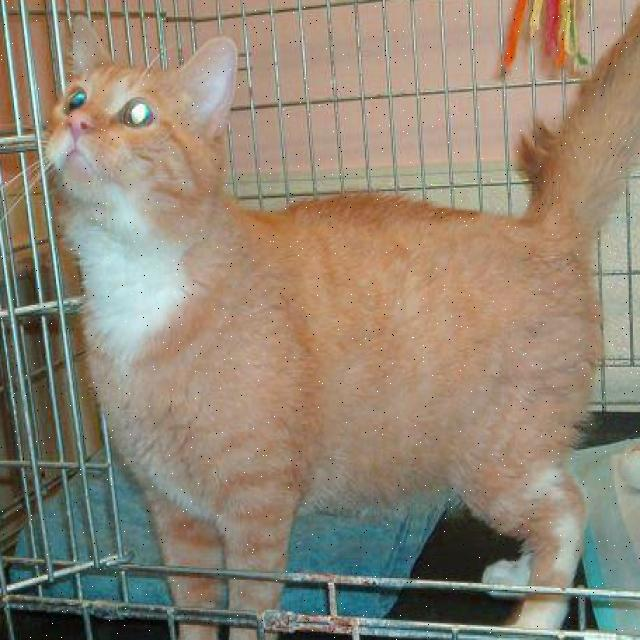Cat: (31, 17, 228, 256)
